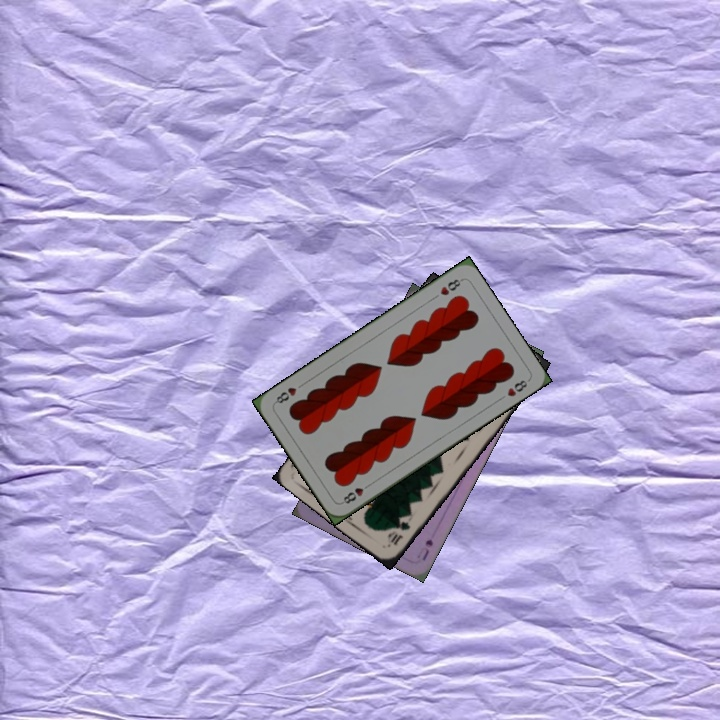G10: (385, 517, 413, 548)
H8: (338, 479, 374, 506), (436, 275, 465, 298)
SU: (412, 535, 436, 563)
